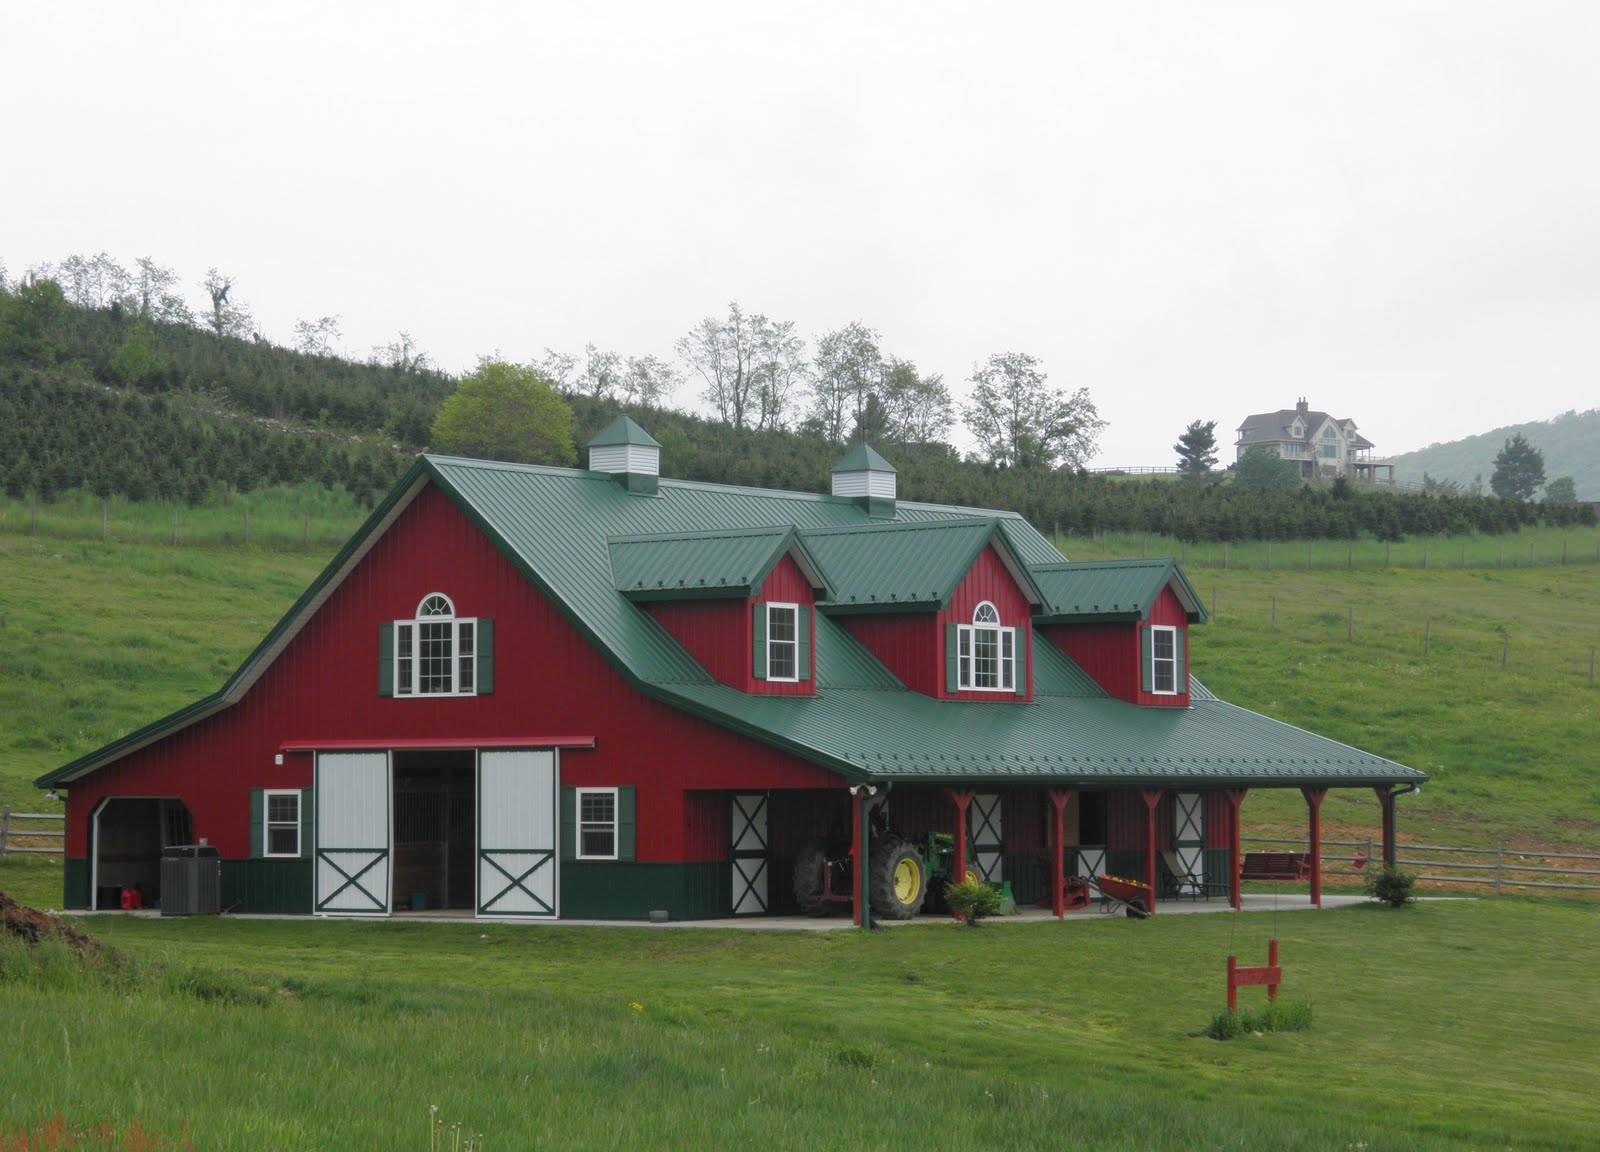Tin-shade House: (80, 426, 1424, 920)
